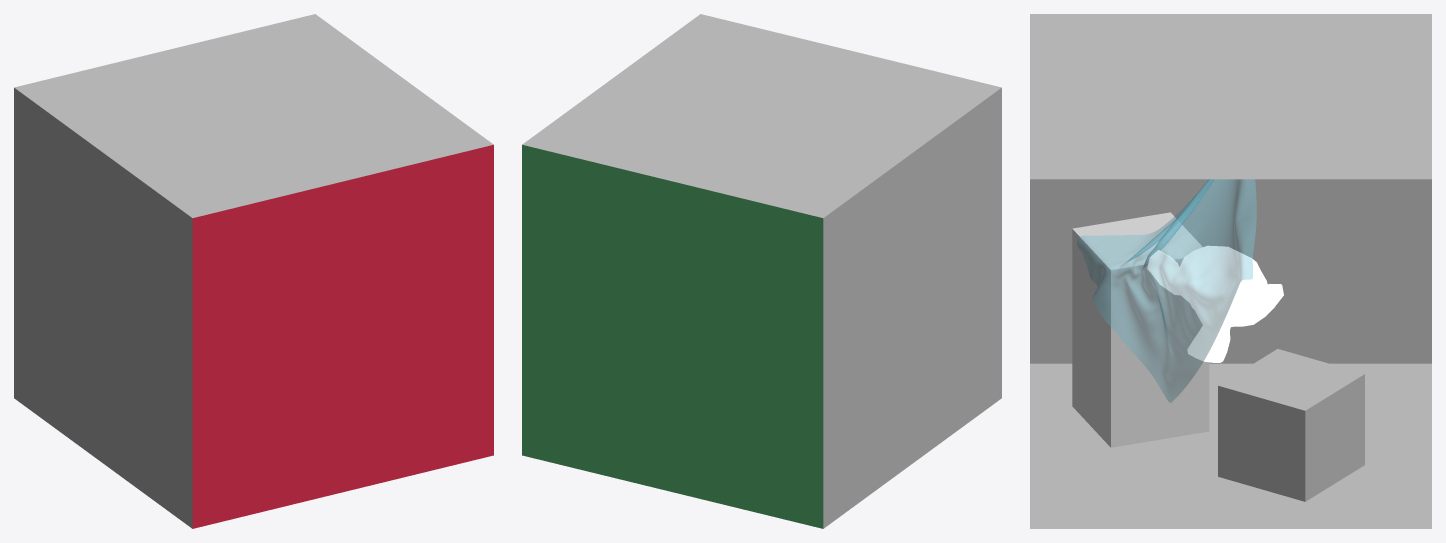
Rendered from cornellbox.gltf.
The picture shows the model from 3 angles, left to right: view 1: azimuth 30°, elevation 25°; view 2: azimuth 150°, elevation 25°; view 3: azimuth 270°, elevation 25°; orthographic projection. The views are drawn at different scales.
Parts seen in each view (by area): view 1: Cube; view 2: Cube; view 3: Cube, Plane, Suzanne.
Boxes of the visible parts, x1=… form: Cube: x1=14, y1=14, x2=493, y2=528; Cube: x1=522, y1=14, x2=1001, y2=528; Cube: x1=1030, y1=14, x2=1431, y2=528; Plane: x1=1077, y1=179, x2=1256, y2=402; Suzanne: x1=1147, y1=245, x2=1283, y2=362.
Size of the model in its own units: 3.45 by 3.43 by 3.55.
